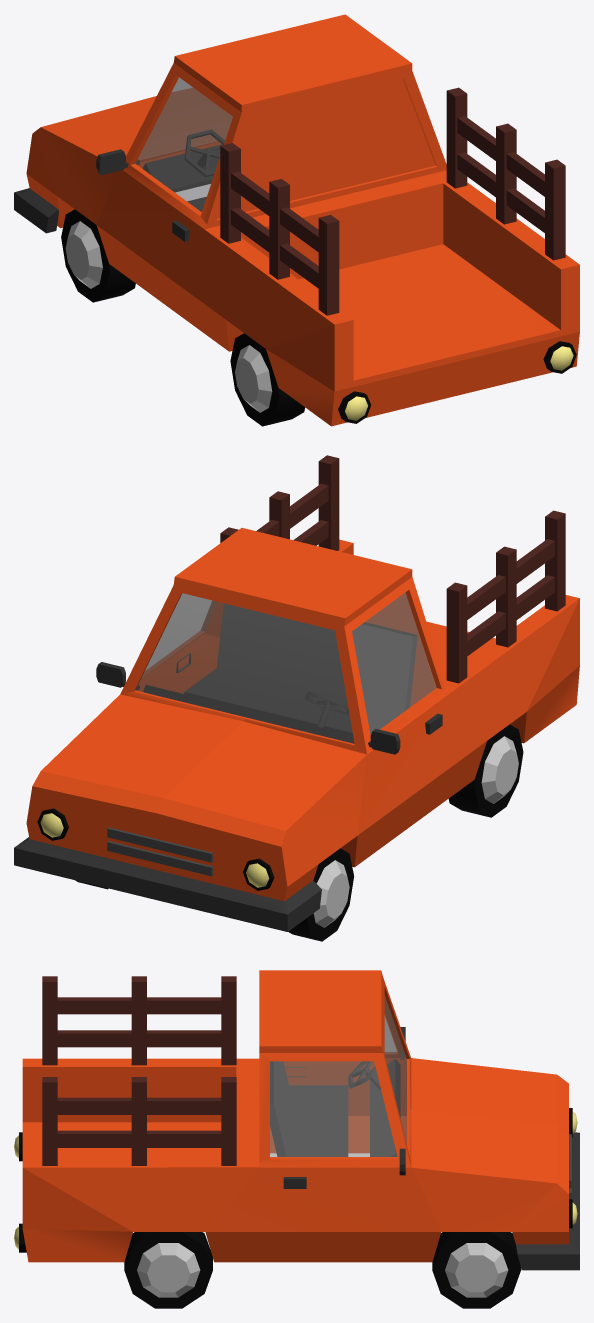
Rendered from car_1.FBX.
The picture shows the model from 3 angles, top to bottom: view 1: azimuth 30°, elevation 25°; view 2: azimuth 150°, elevation 25°; view 3: azimuth 270°, elevation 25°; orthographic projection. The views are drawn at different scales.
Parts seen in each view (by area): view 1: car_1; view 2: car_1; view 3: car_1.
Part boxes in pixels (left/top/right/bottom): car_1: left=14, top=14, right=579, bottom=426; car_1: left=14, top=455, right=579, bottom=941; car_1: left=14, top=970, right=579, bottom=1308.
Bounding box in the file's own units: 2.42 × 2.08 × 4.34.
Materials: 2 (1 with a texture image).
